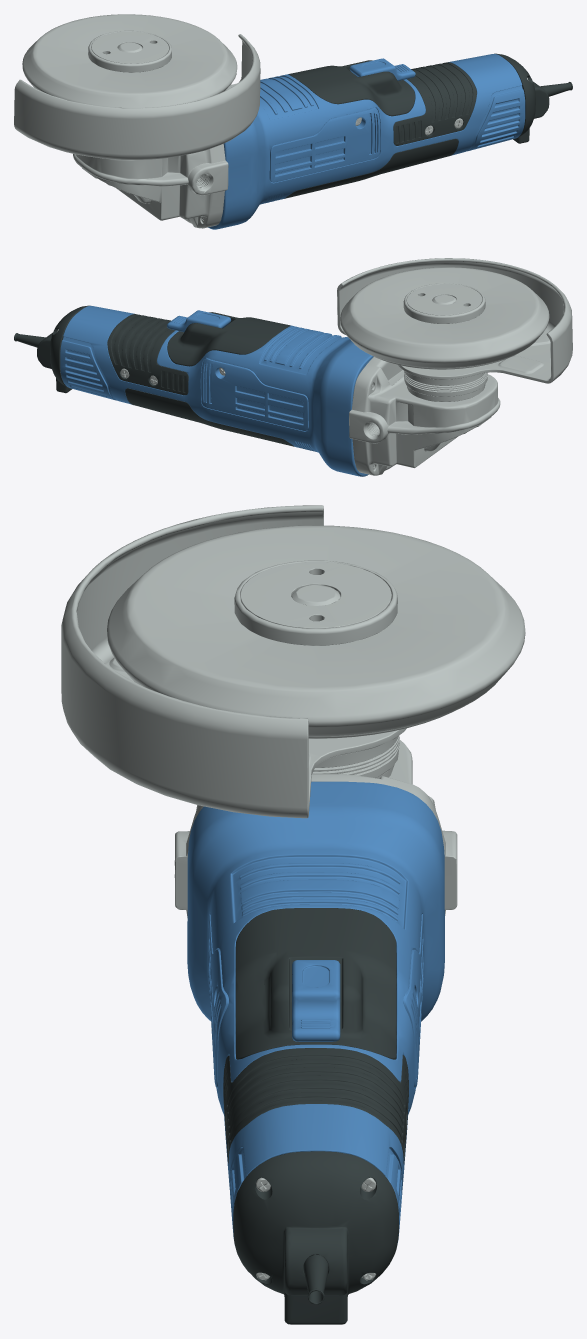
Rendered from equipment_buffer_polisher_a01.glb.
3 views of the same model, one above another, from view 1: azimuth 30°, elevation 25°; view 2: azimuth 150°, elevation 25°; view 3: azimuth 270°, elevation 25° (orthographic). The views are drawn at different scales.
Bounding box in the file's own units: 0.355 × 0.1134 × 0.1321.
